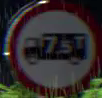Heavy Vehicles: (6, 4, 98, 96)
